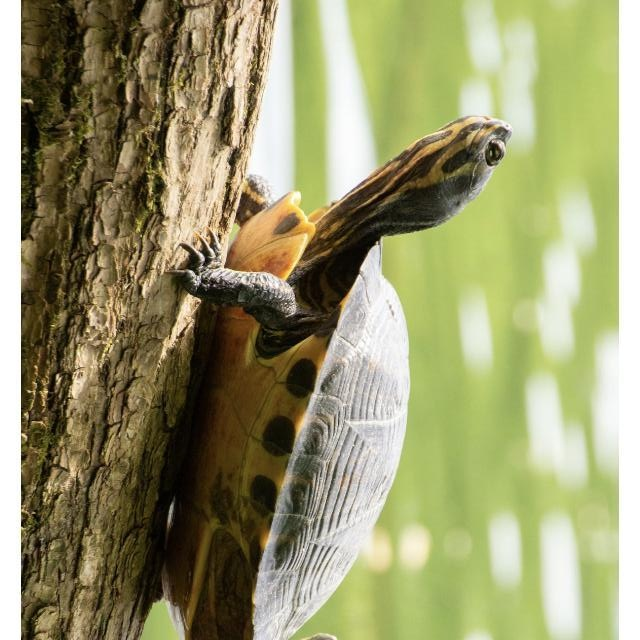turtle: (159, 114, 514, 635)
